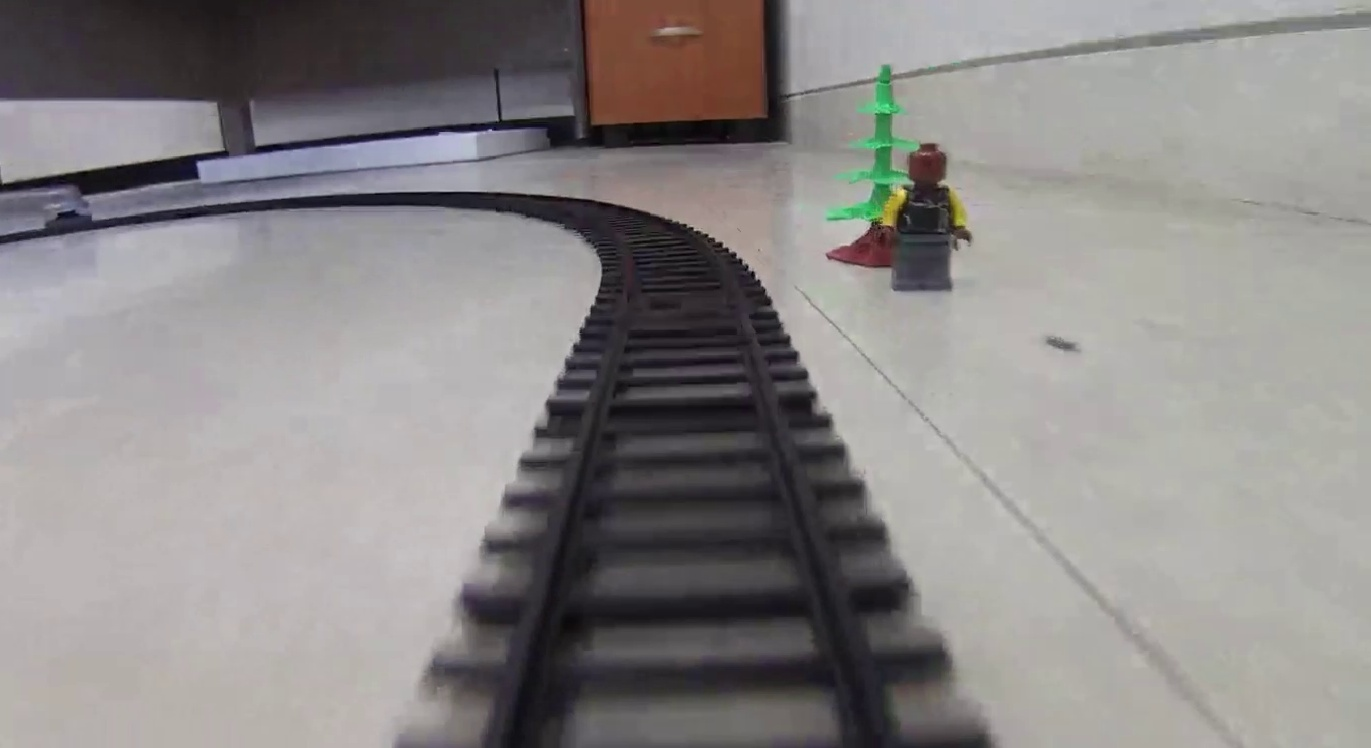people: (883, 141, 973, 290)
